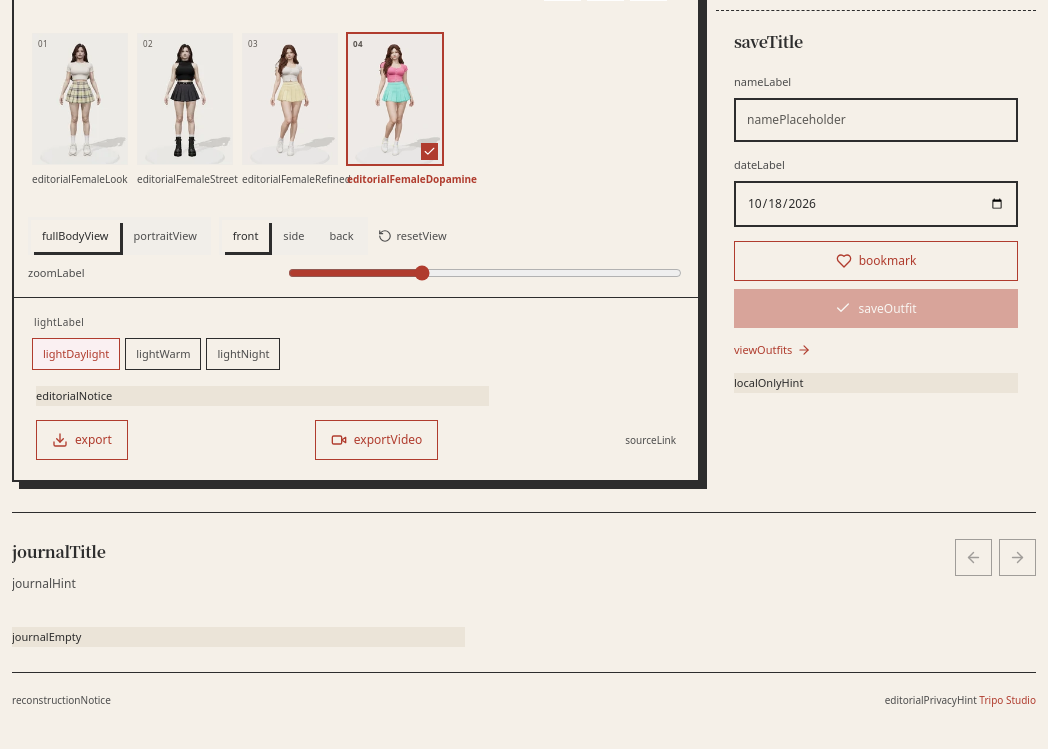
3D avatar workspace › shows recording errors without discarding the loaded model
The image size is (1048, 749).
(page scrolled)
Click the button "exportVideo": x=377, y=440 [315, 420, 438, 460]
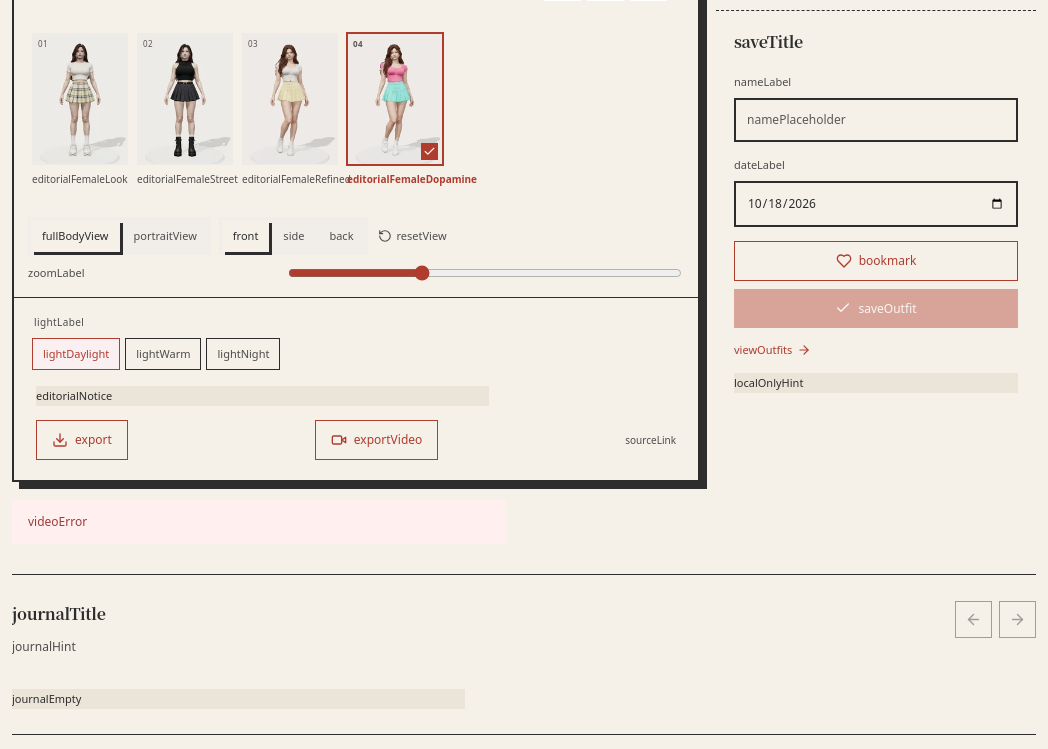
Check: the button "export" is enabled, box [36, 420, 128, 460]
Check: the message reads "videoError", box [28, 513, 87, 530]
